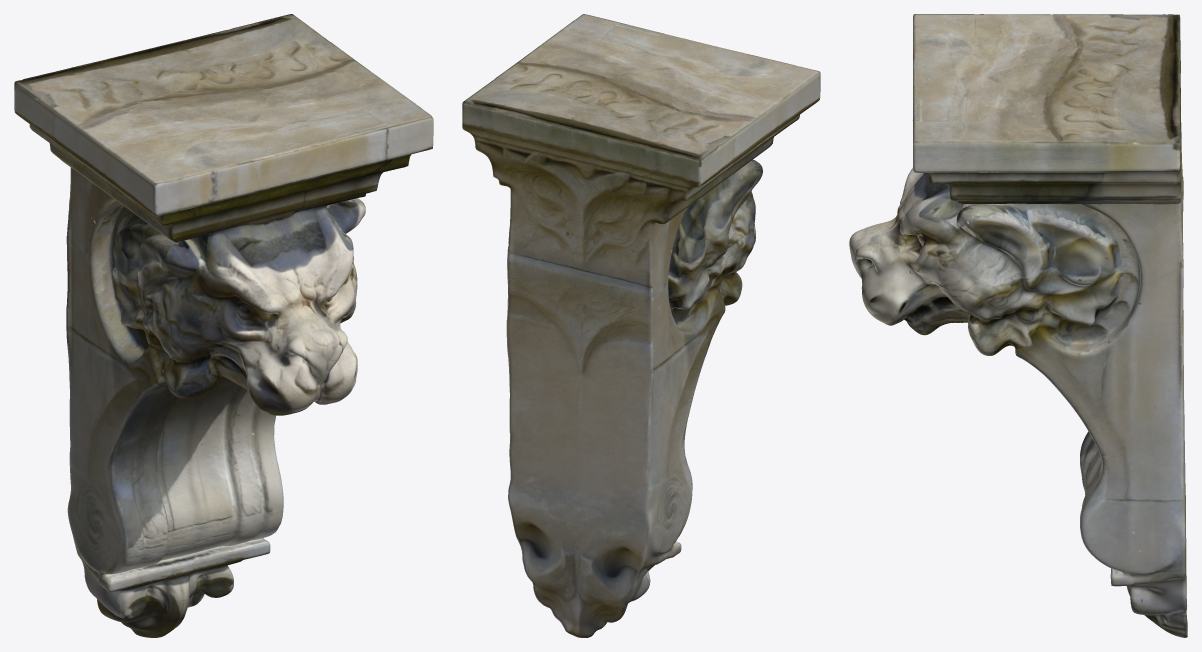
The model's file is An_Aged_Stone_Corbel__0613152004_texture.fbx.
3 renders of one model, left to right at view 1: azimuth 30°, elevation 25°; view 2: azimuth 150°, elevation 25°; view 3: azimuth 270°, elevation 25°, orthographic. The views are drawn at different scales.
Parts seen in each view (by area): view 1: Mesh1_Mesh1.024; view 2: Mesh1_Mesh1.024; view 3: Mesh1_Mesh1.024.
Boxes of the visible parts, bbox=[...] form: Mesh1_Mesh1.024: bbox=[14, 14, 433, 637]; Mesh1_Mesh1.024: bbox=[462, 14, 820, 637]; Mesh1_Mesh1.024: bbox=[849, 14, 1187, 637].
Bounding box in the file's own units: 99.06 × 200 × 110.
Materials: 1 (1 with a texture image).
